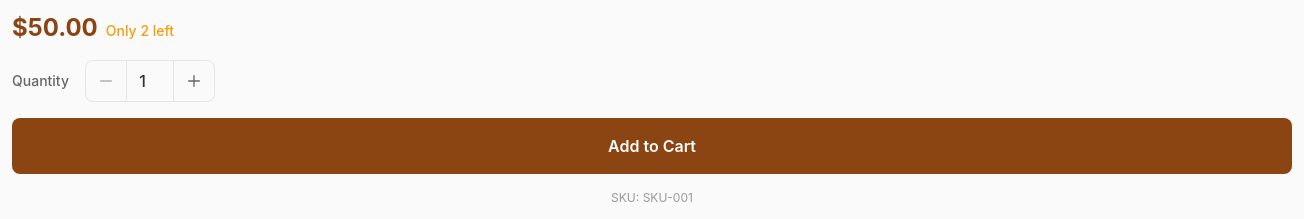
AddToCart › quantity selector with inventory › increment button respects inventory limit
# Start at 1, increment to 2
Click the button named "Increase quantity".
click(194, 81)  # box [174,61,214,101]
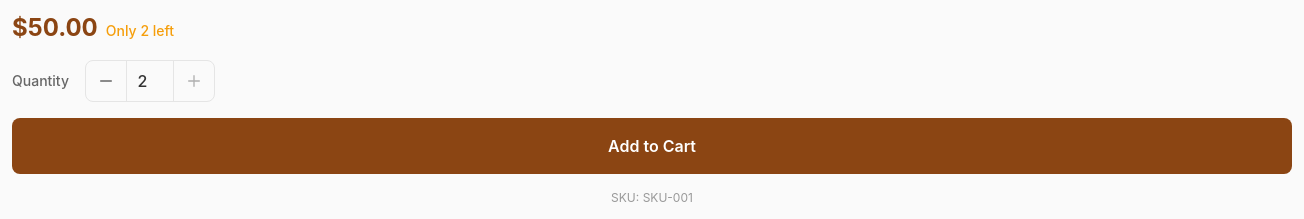
Expected: the number field holds "2", [126,61,174,101]
Expected: the button named "Increase quantity" is disabled, [174,61,214,101]
